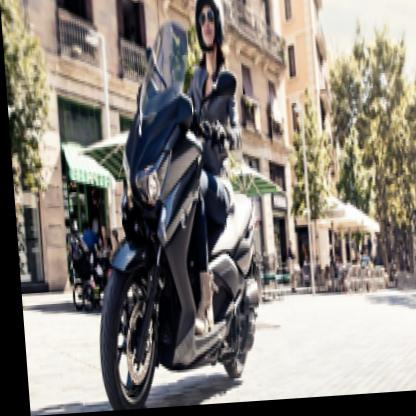With Helmet: (189, 0, 227, 62)
